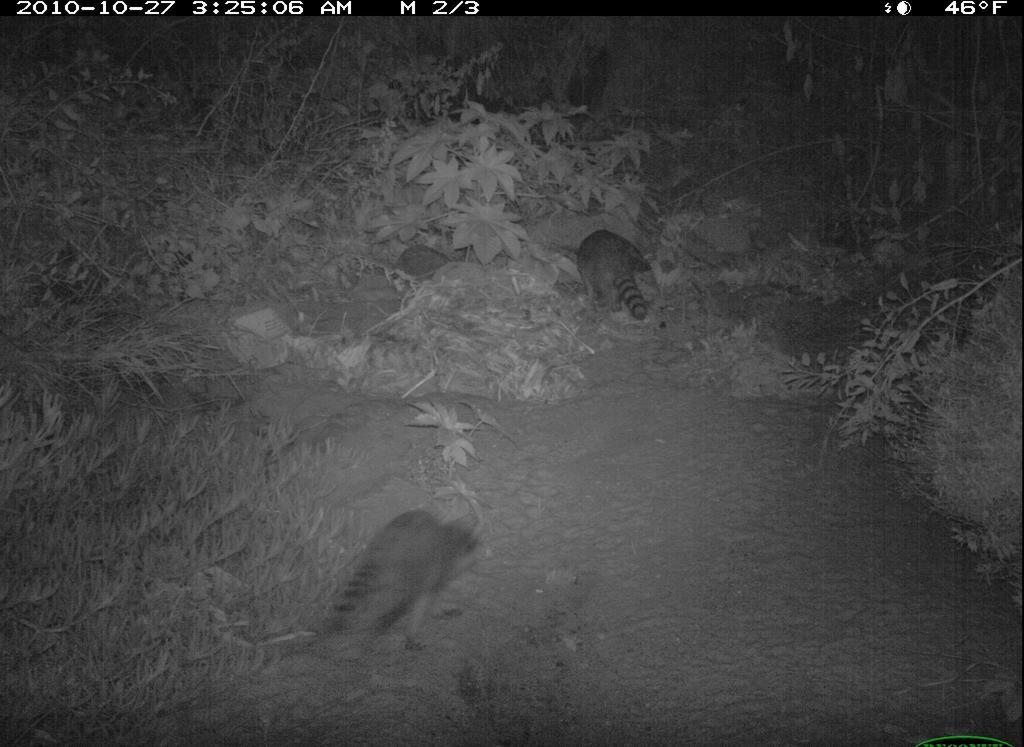raccoon: (299, 502, 492, 658), (557, 226, 669, 341)
